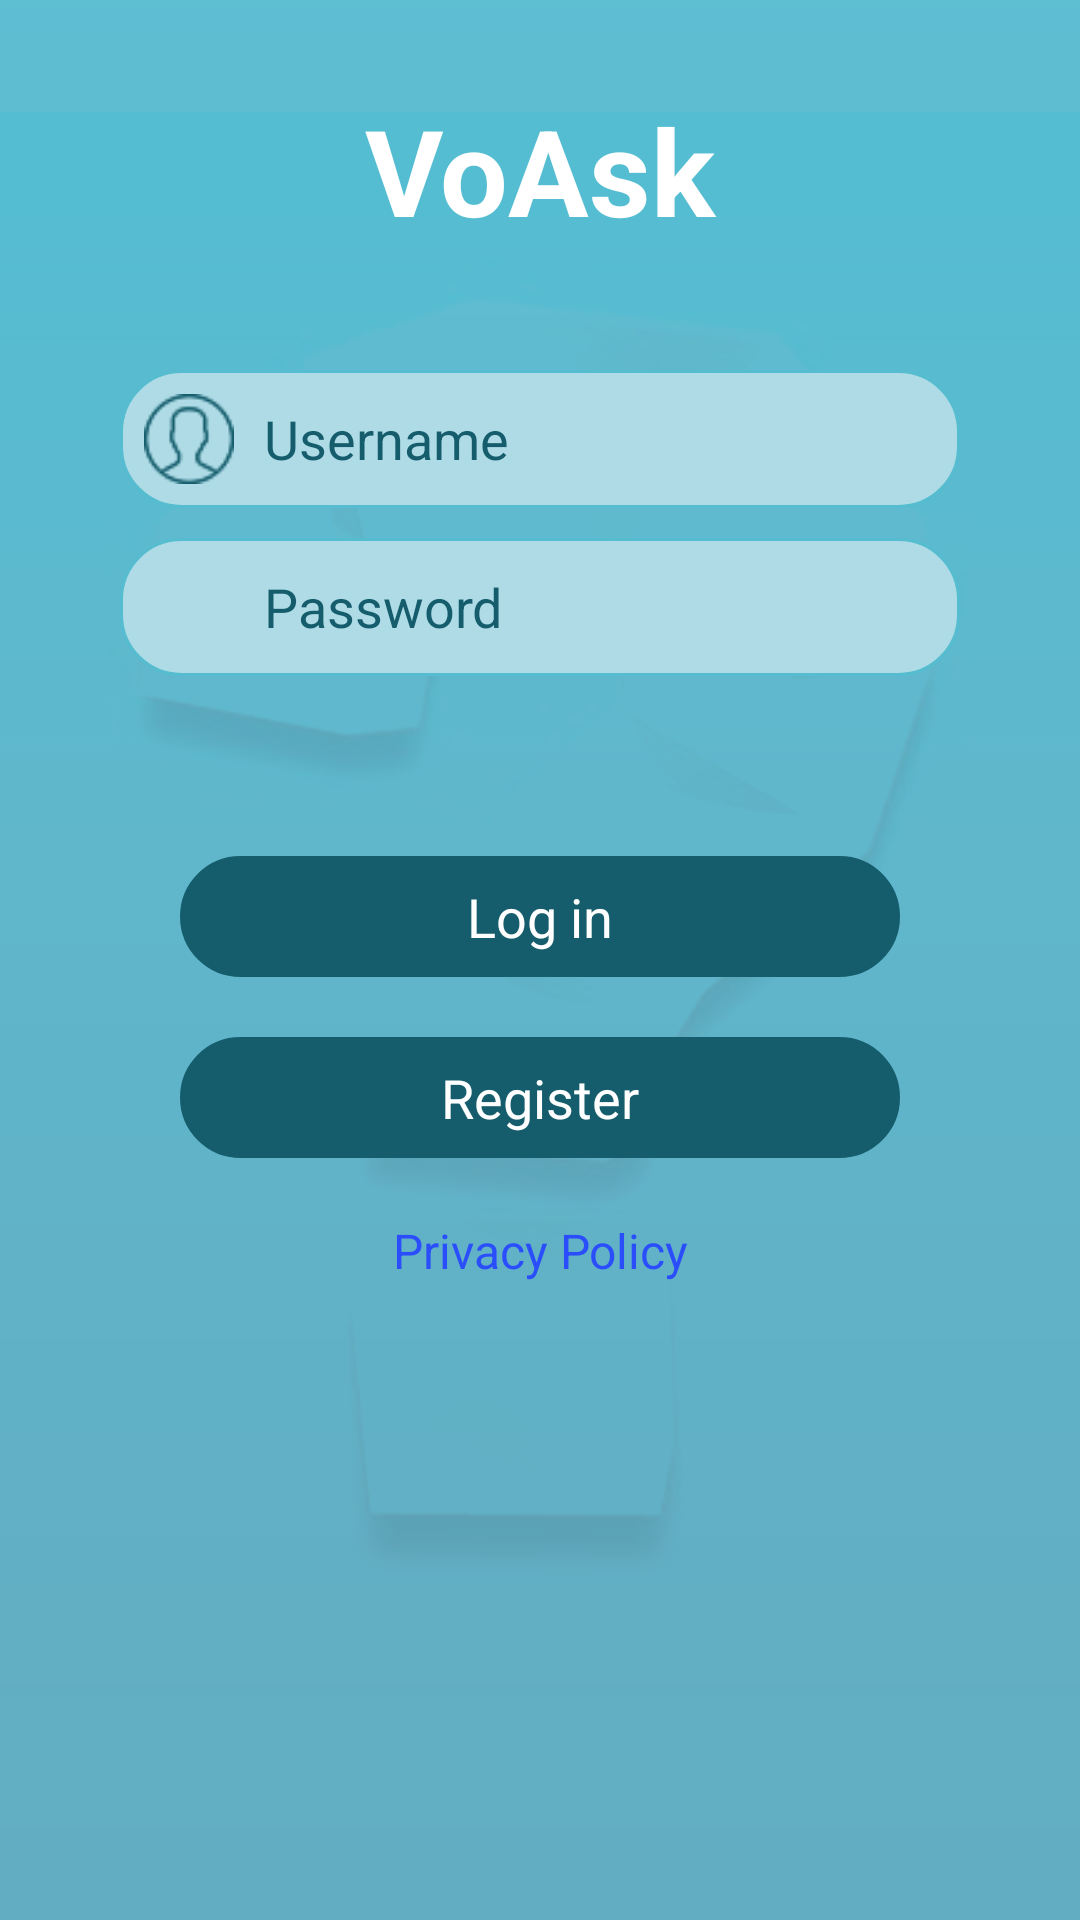

Named icons in this screenshot (1080px×1920px) and their centers, point (x, y):
usericon: point (189, 439)
